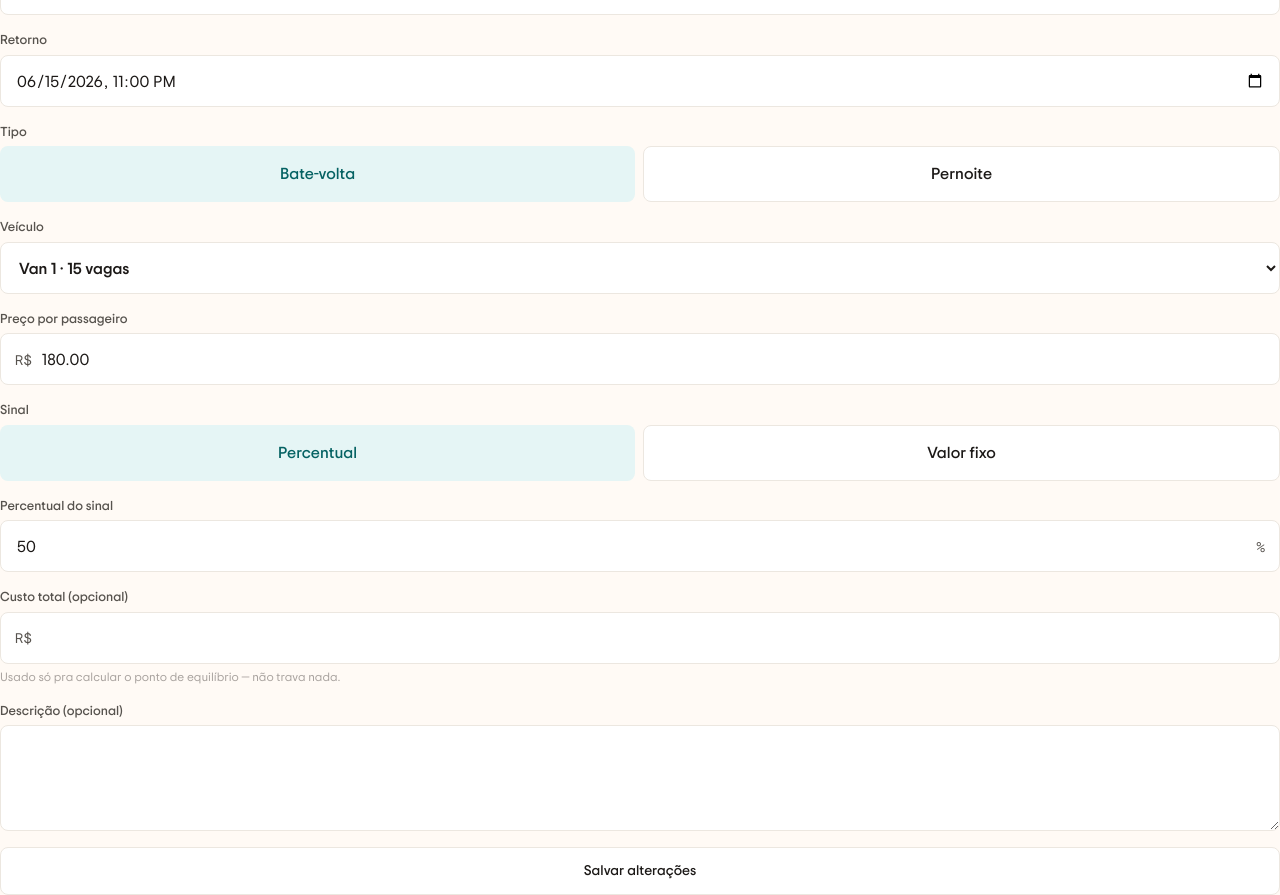
Test: DetalhesTab › mapeia erros de validação de campo vindos do servidor
The image size is (1280, 895).
(page scrolled)
Click the button "Salvar alterações". click: (640,871)
box: 0,847 -> 1279,894
(page scrolled)
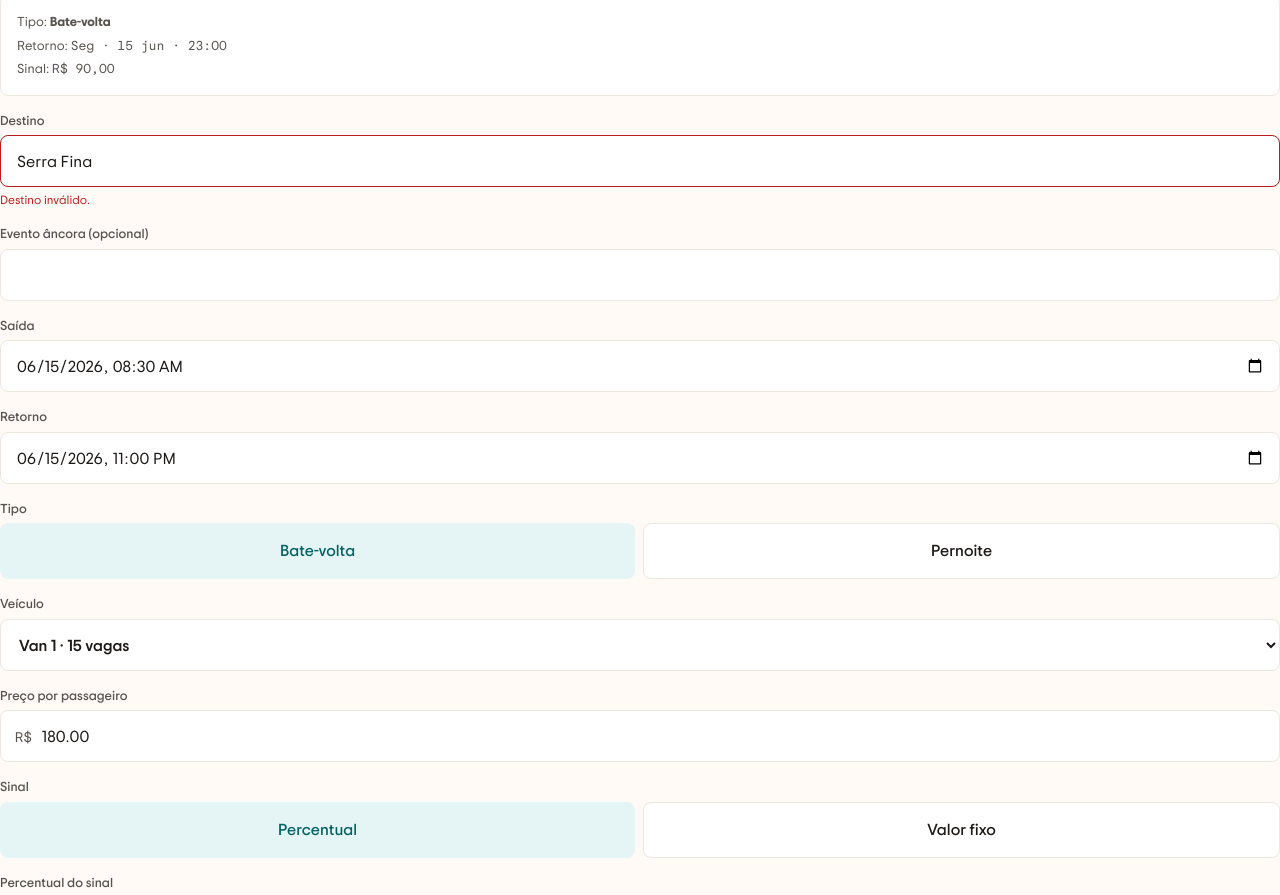
Now the text "Destino inválido." is shown, box 0,191 -> 90,208
